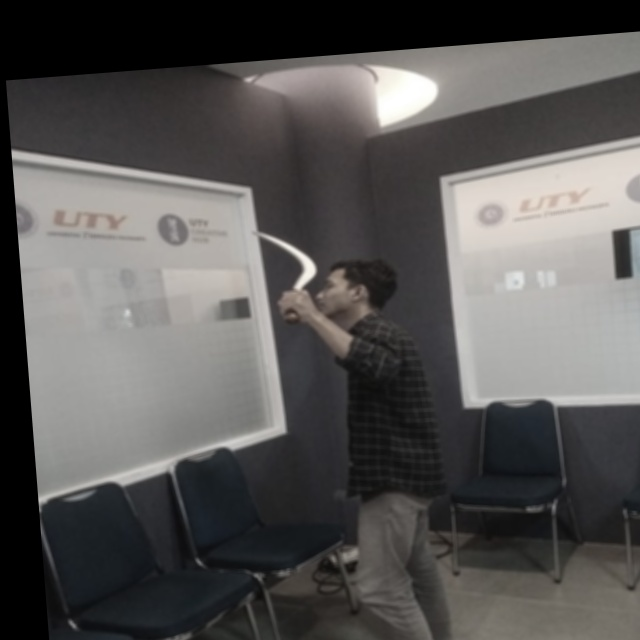Sharp-Object: (252, 222, 323, 327)
